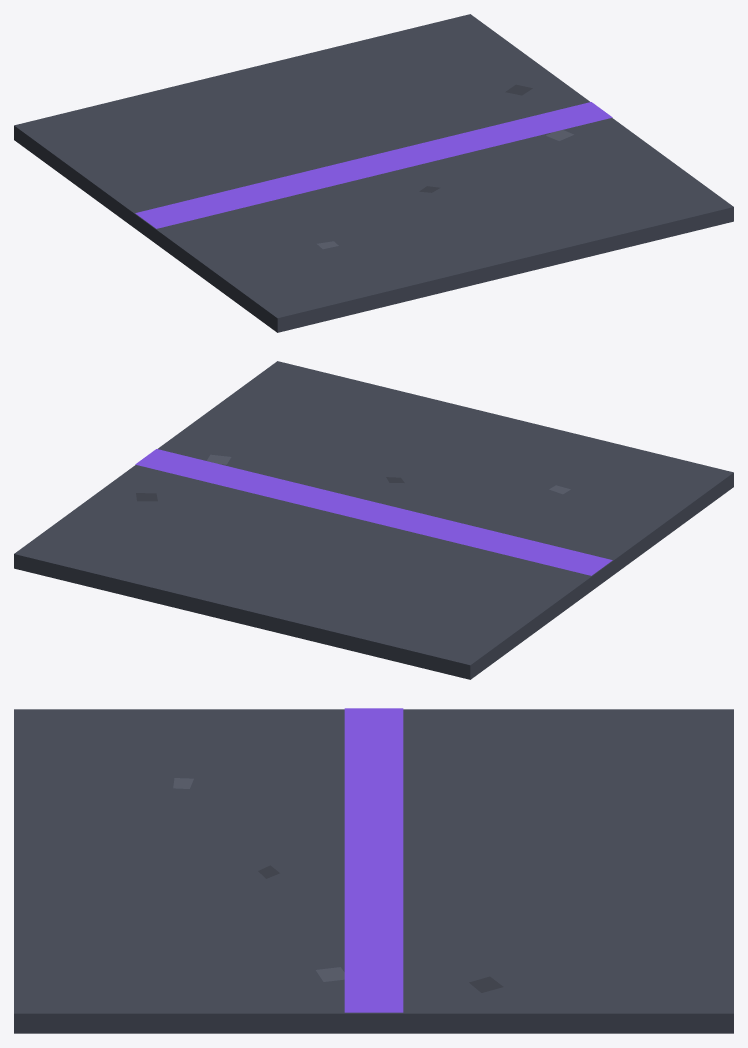
File: raum_fliese_weg.glb
3 renders of one model, top to bottom at view 1: azimuth 30°, elevation 25°; view 2: azimuth 150°, elevation 25°; view 3: azimuth 270°, elevation 25°, orthographic. The views are drawn at different scales.
Parts seen in each view (by area): view 1: raum_fliese_weg; view 2: raum_fliese_weg; view 3: raum_fliese_weg.
Boxes of the visible parts, x1,y1,x2,y2 form: raum_fliese_weg: (14,14,733,332); raum_fliese_weg: (14,361,733,679); raum_fliese_weg: (14,708,733,1033).
Bounding box in the file's own units: 0.98 × 0.0316 × 0.98.
